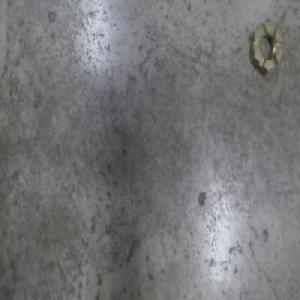Nut: (249, 18, 285, 80)
